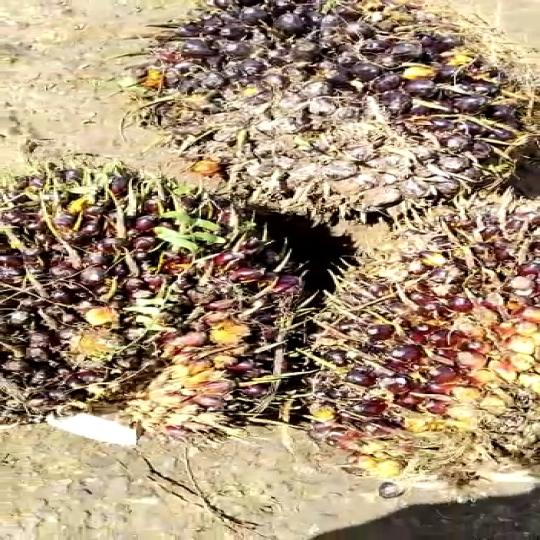kurang masak: (0, 151, 338, 436), (105, 0, 540, 212), (295, 193, 540, 482)
